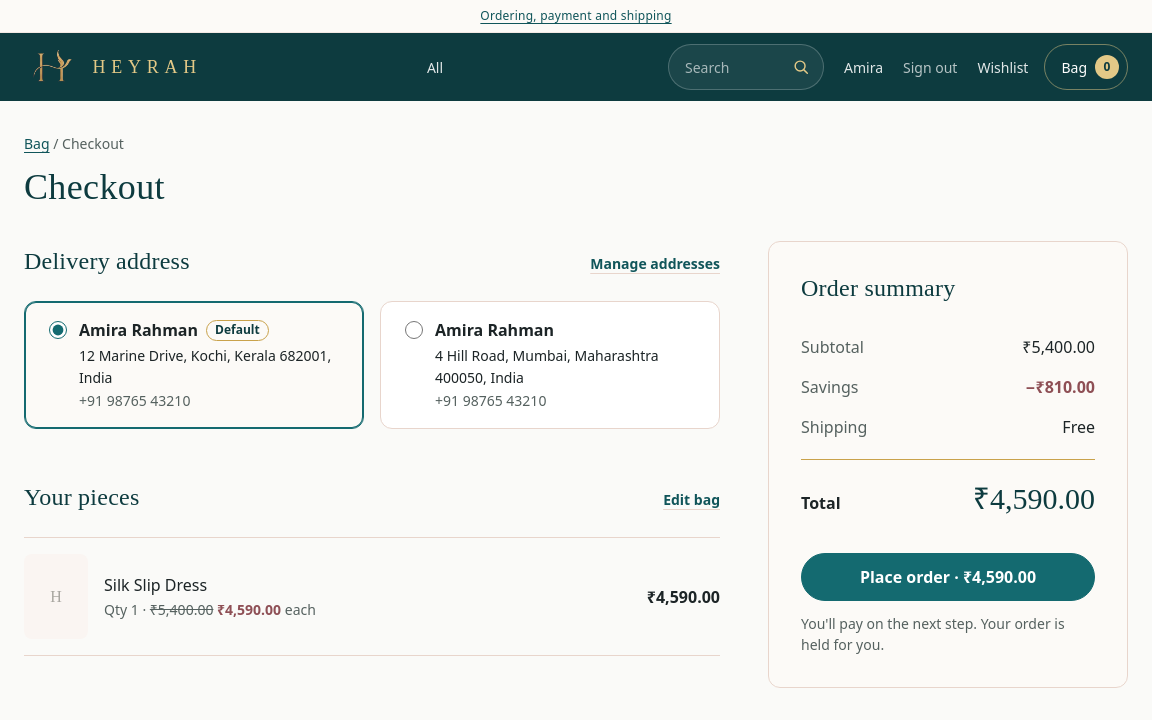
Scenario: checkout page › in manual mode goes to the order page instead
Click the button with test id "place-order" at (948, 577), box top-left (801, 553), bottom-right (1095, 601)
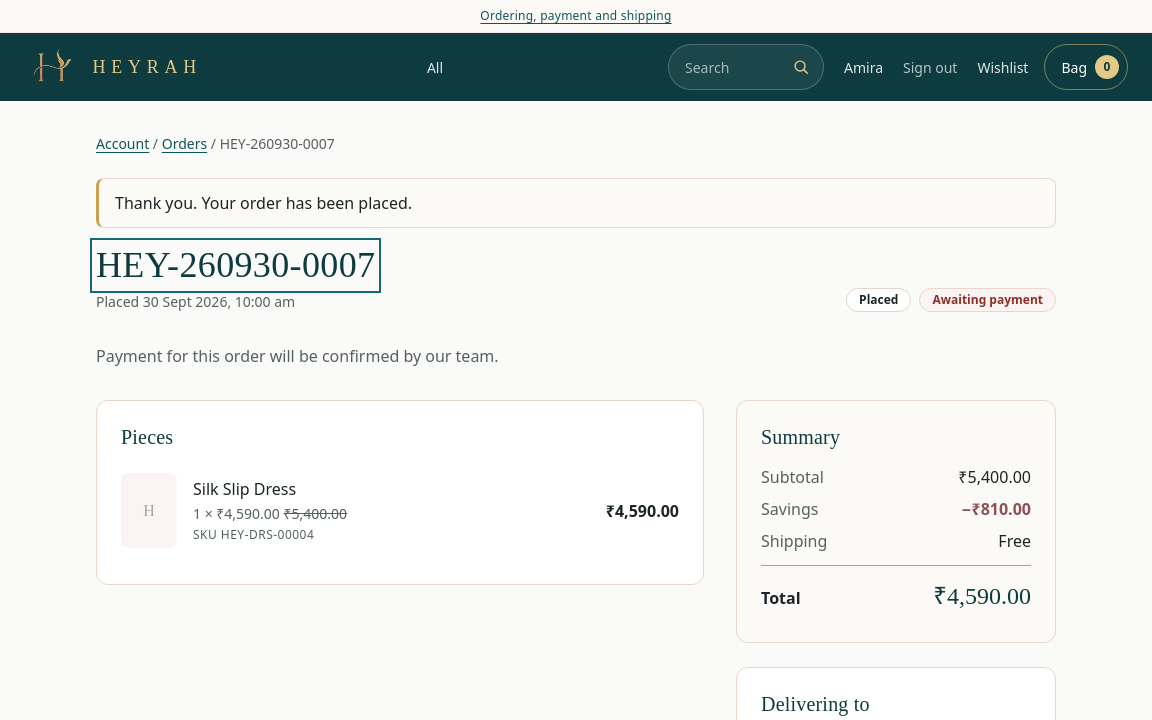
Expected: the text "Thank you. Your order has been placed." is shown, top-left (96, 178), bottom-right (1056, 228)
Expected: the text "Payment for this order will be confirmed by our team." is shown, top-left (96, 345), bottom-right (499, 367)
